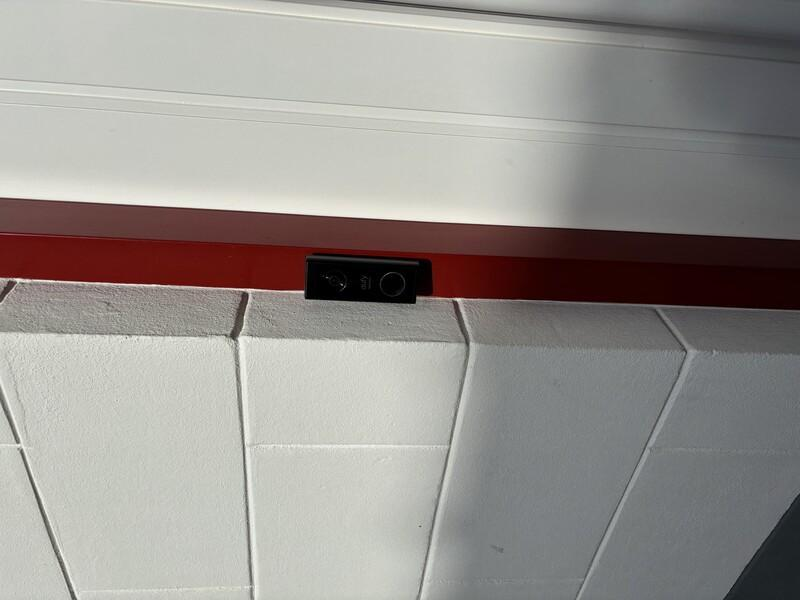doorbell: (288, 286, 350, 430)
